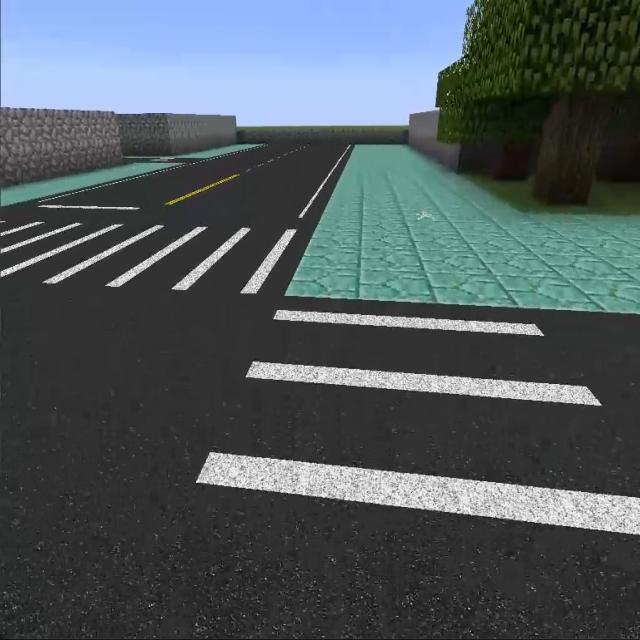crosswalk: (122, 296, 639, 639), (0, 219, 314, 296)
road: (0, 281, 280, 639), (3, 145, 355, 227), (532, 310, 639, 464)
sidewalk: (285, 143, 640, 313), (0, 162, 185, 207), (124, 143, 263, 159)
